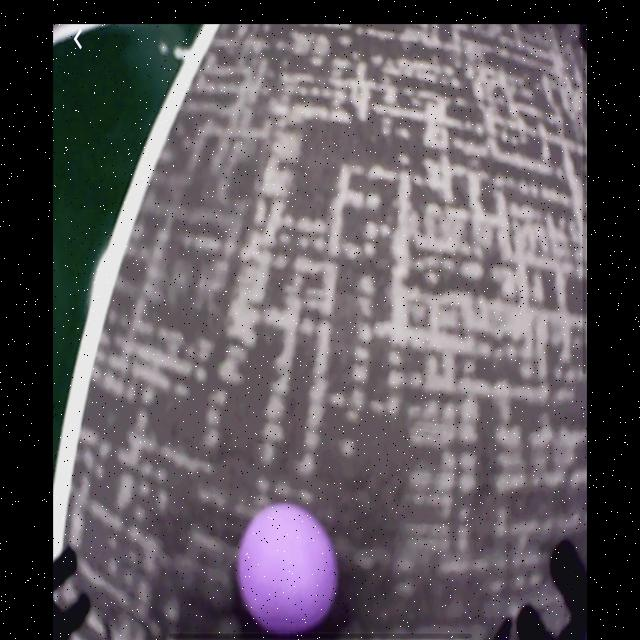ball: (237, 504, 337, 634)
